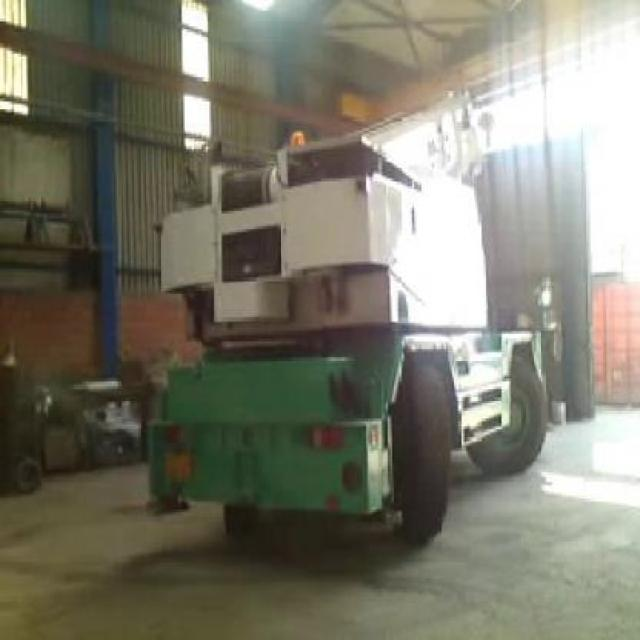Mobile Crane: (142, 136, 548, 547)
